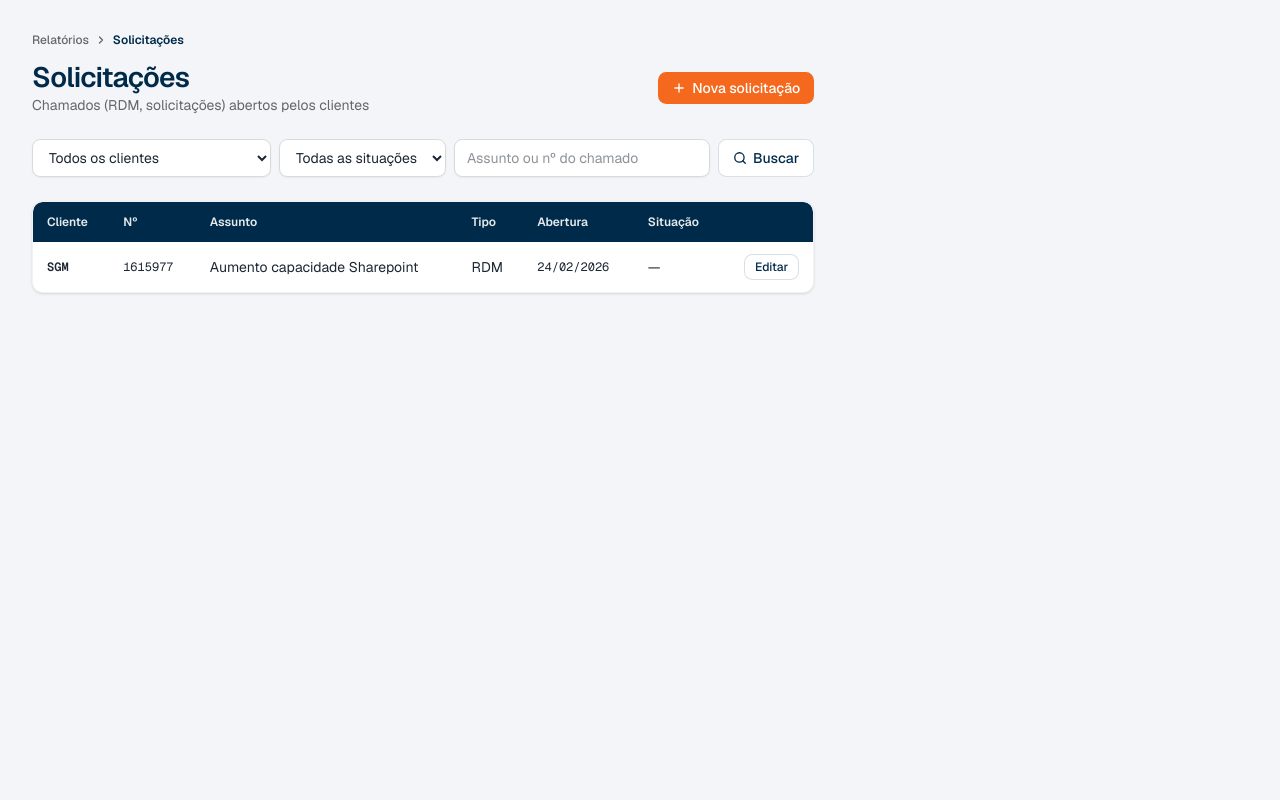
SolicitacoesPage › edita uma solicitação inline
Click the button "Editar" at (772, 267), box left=744, top=254, right=799, bottom=280
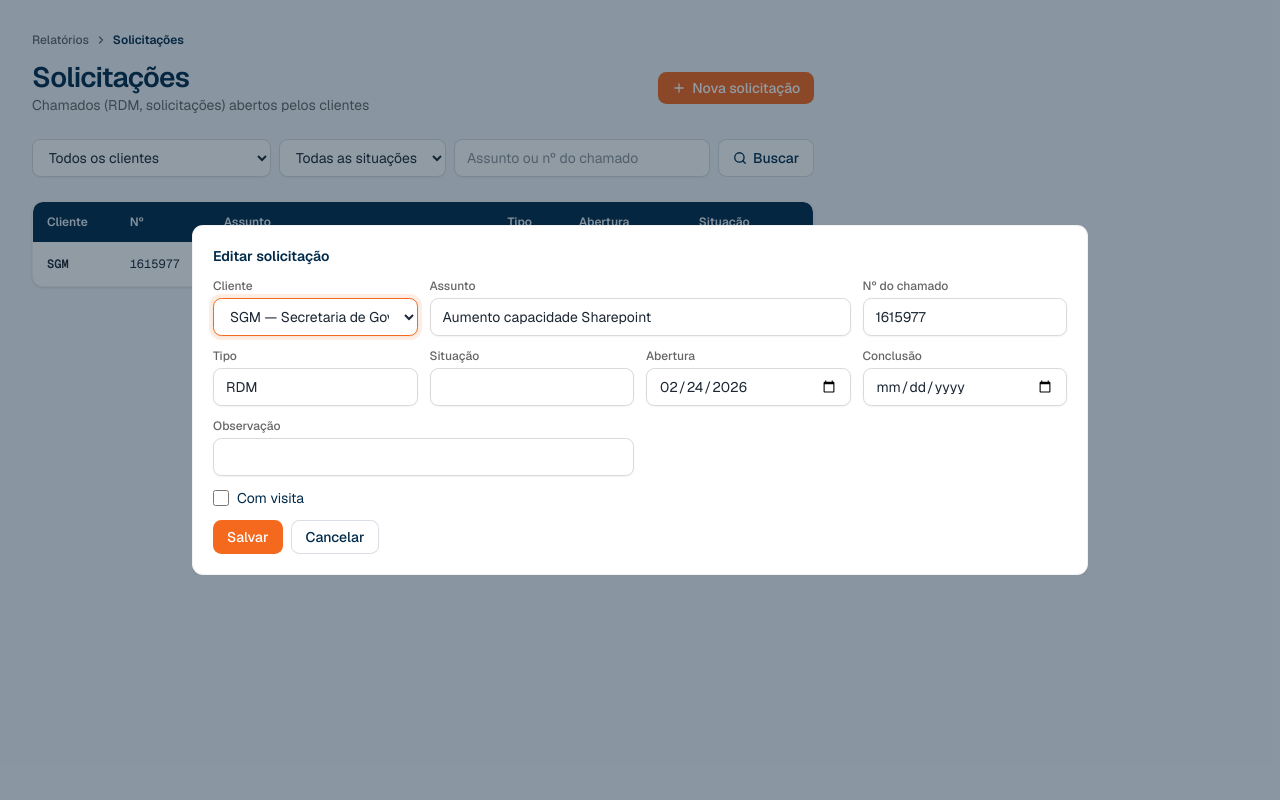
Type "Concluída" into the field labelled "Situação" at (532, 387), box left=430, top=368, right=634, bottom=406
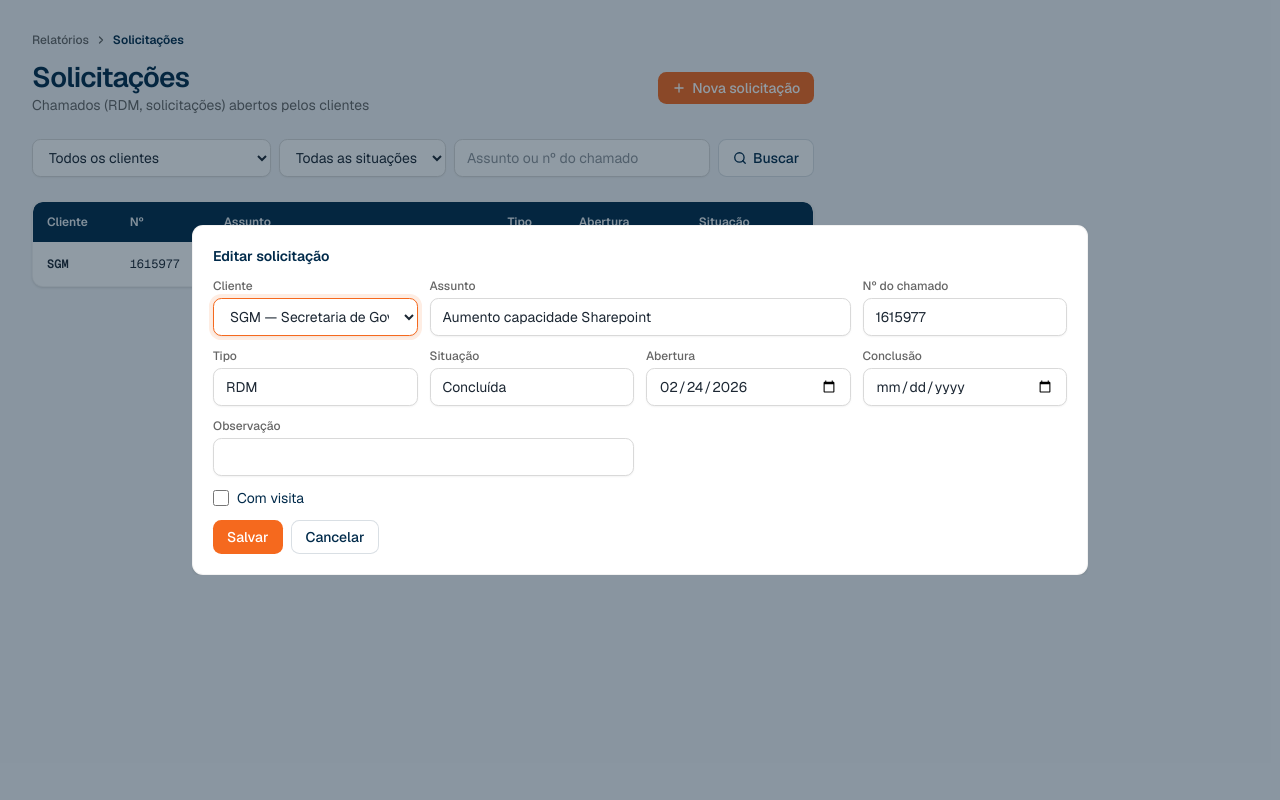
Click the button "Salvar" at (248, 537), box left=213, top=520, right=282, bottom=554
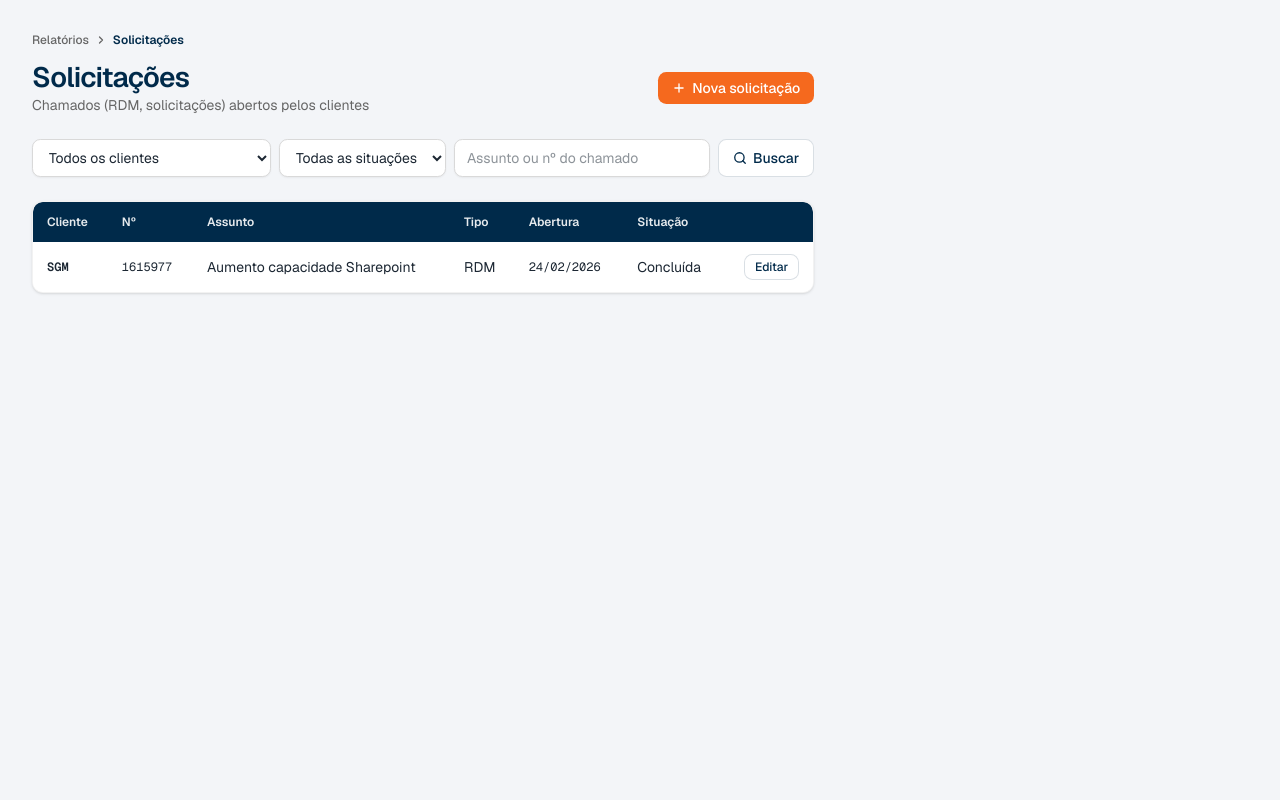
Expected: the text "Concluída" is shown, left=623, top=242, right=723, bottom=292
